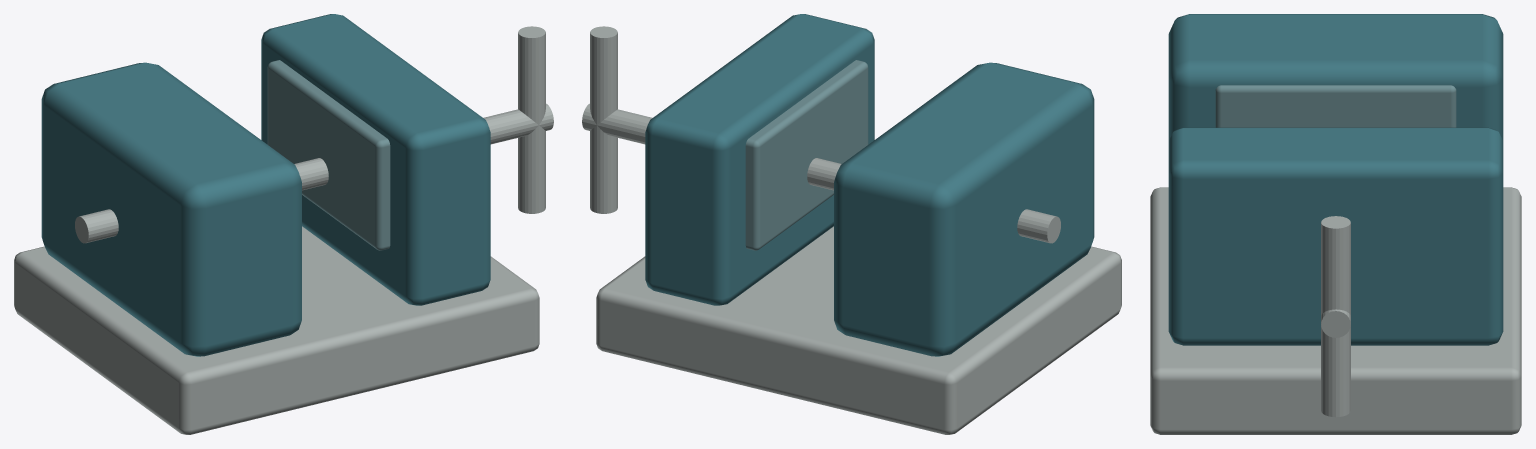
Rendered from optician-and-optical-lens-workshop-optician-and-optica-8e60fbce__31709.glb.
3 views of the same model, side by side, from view 1: azimuth 30°, elevation 25°; view 2: azimuth 150°, elevation 25°; view 3: azimuth 270°, elevation 25° (orthographic). The views are drawn at different scales.
Visible parts, largest first — view 1: optician-and-optical-lens-workshop-frame-repair-clamp; view 2: optician-and-optical-lens-workshop-frame-repair-clamp; view 3: optician-and-optical-lens-workshop-frame-repair-clamp.
Boxes of the visible parts, bbox=[...] form: optician-and-optical-lens-workshop-frame-repair-clamp: bbox=[14, 14, 553, 434]; optician-and-optical-lens-workshop-frame-repair-clamp: bbox=[582, 14, 1121, 434]; optician-and-optical-lens-workshop-frame-repair-clamp: bbox=[1150, 14, 1521, 434].
Size of the model in its own units: 0.155 by 0.076 by 0.1.
